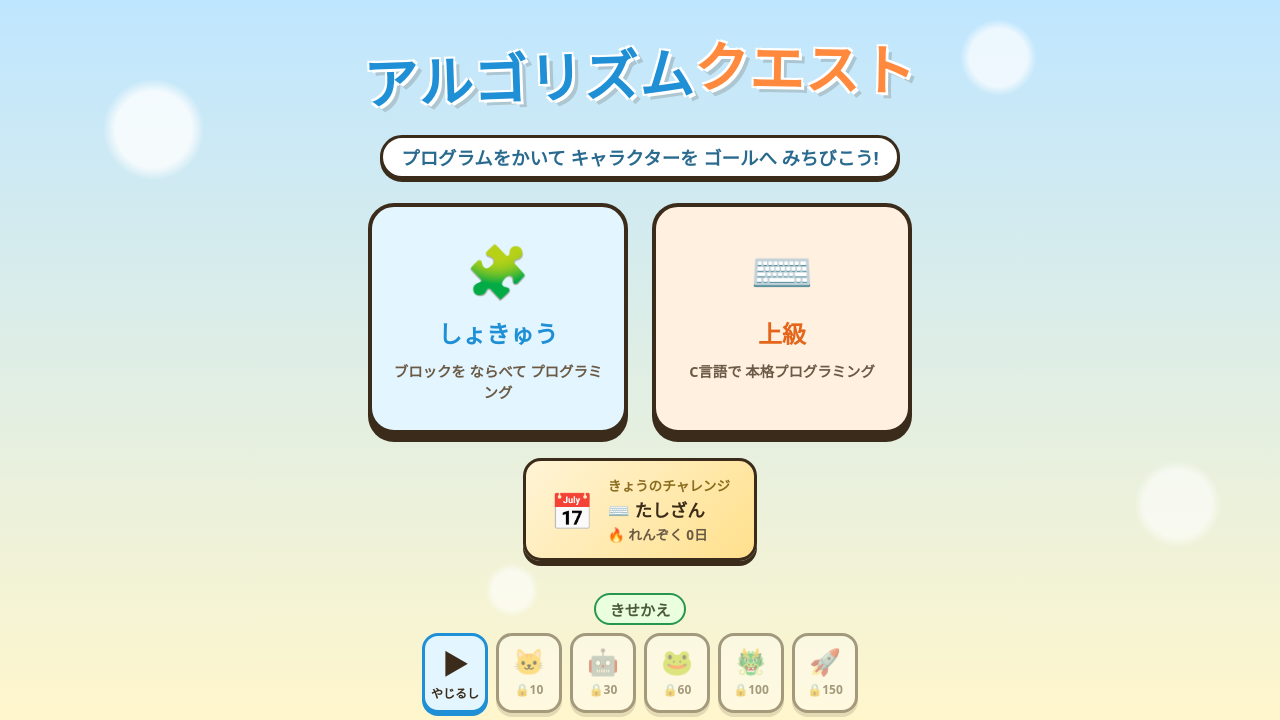
Test case: IO問題のフロー › 問題文表示 → 実行 → テスト結果表示 → クリアできる
The image size is (1280, 720).
What coordinates should you click on to do the following:
click the button "⌨️ 上級 C言語で 本格プログラミング"
I would click on:
 (782, 318)
Its box is [652, 203, 912, 434].
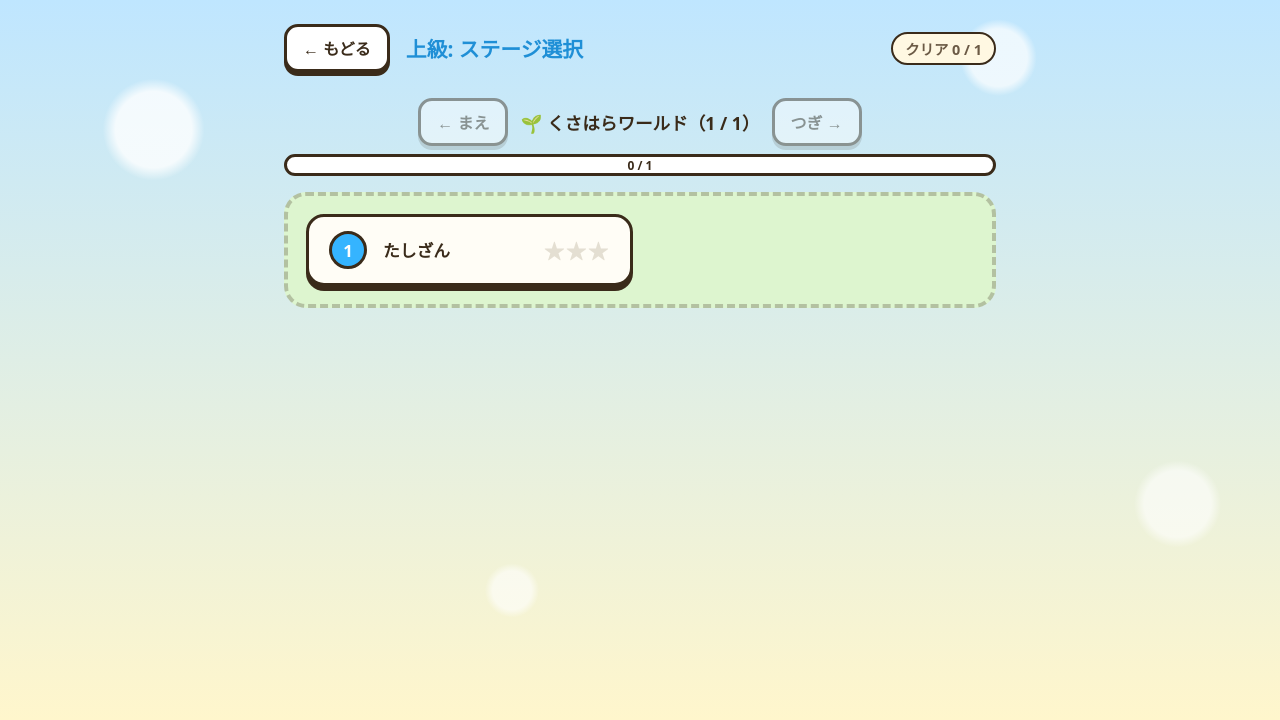
Expected: the button "1 たしざん ★★★" is shown
What coordinates should you click on to do the following:
click the button "1 たしざん ★★★"
I would click on:
 (348, 250)
Its box is [306, 214, 633, 286].
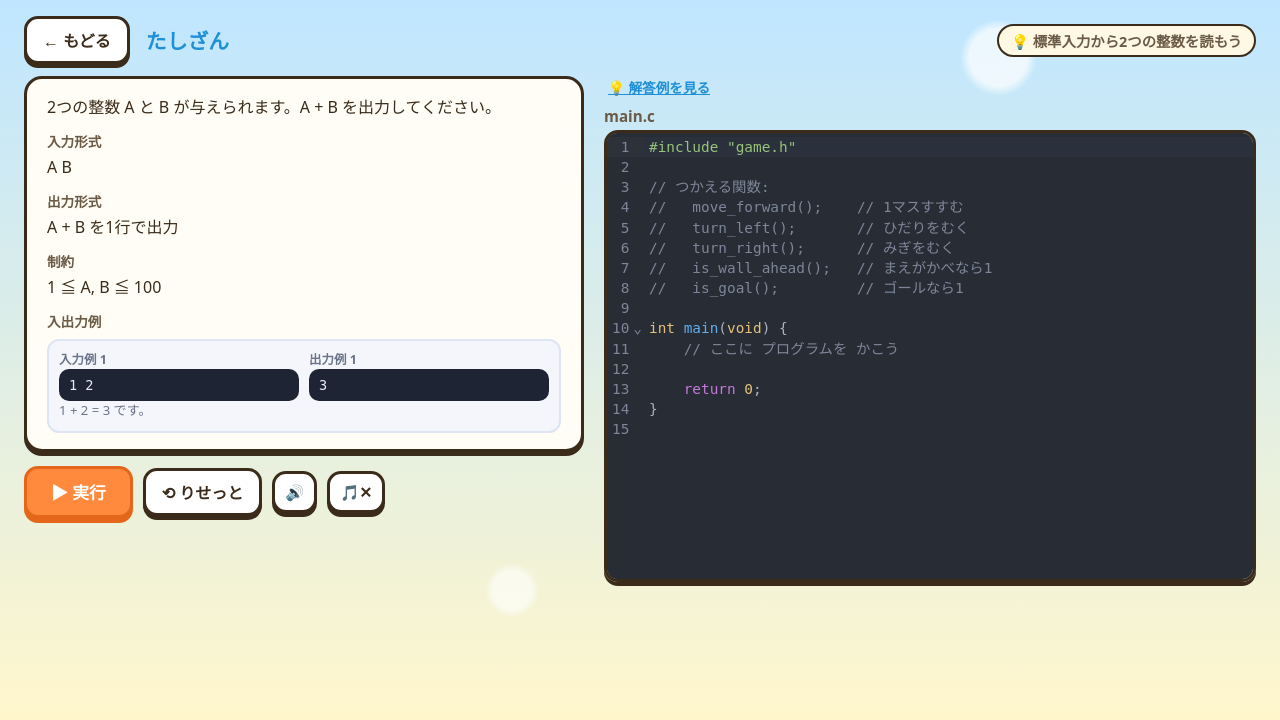
Expected: the text "2つの整数 A と B が与えられます。A + B を出力してください。" is shown, [47, 95, 561, 121]
Expected: the heading "入力形式" is shown, [47, 132, 101, 151]
Expected: the heading "出力形式" is shown, [47, 192, 101, 211]
What coordinates should you click on to do the following:
click the button "▶ 実行"
I would click on:
 (78, 492)
Its box is [24, 466, 133, 518].
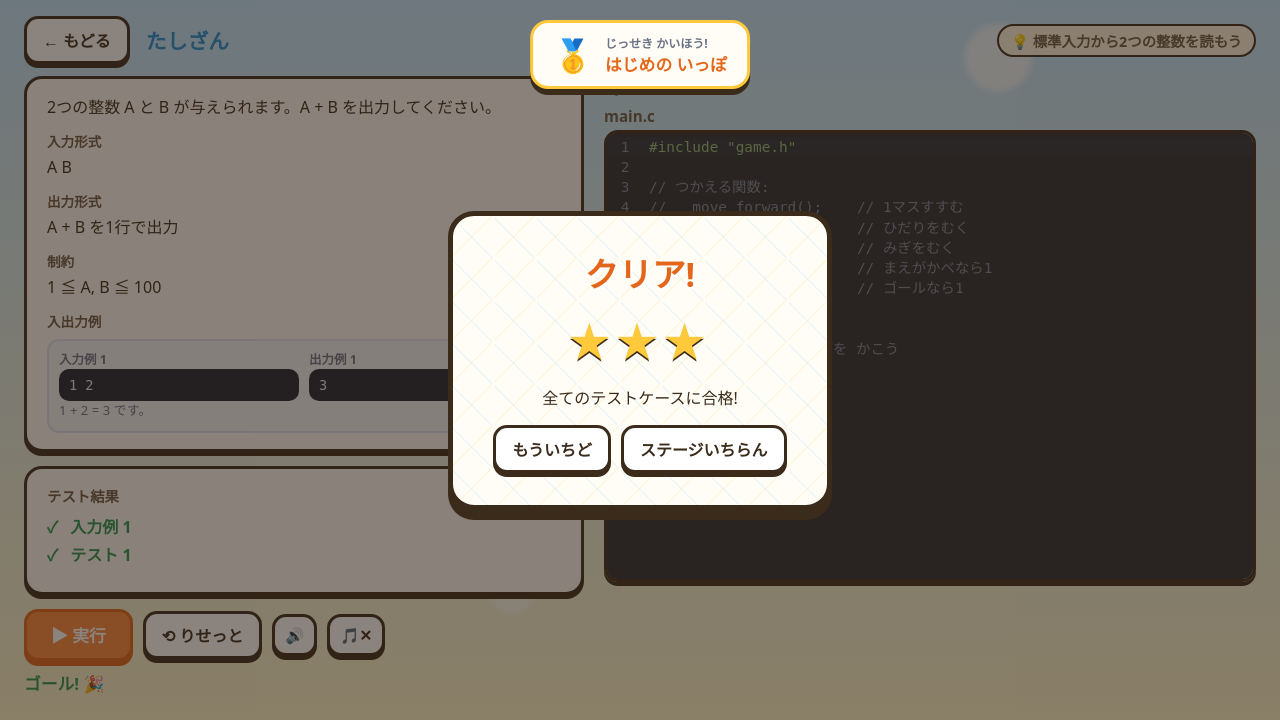
Expected: the heading "テスト結果" is shown, [47, 487, 119, 506]
Expected: the heading "クリア!" is shown, [585, 250, 695, 296]
Expected: the element with class "clear-stars" reads "★ ★ ★", [569, 312, 711, 368]
